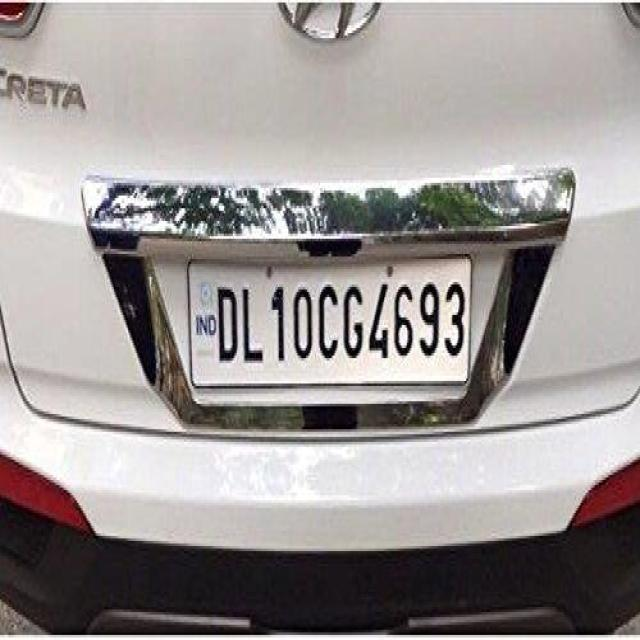0: (291, 285, 313, 364)
1: (269, 283, 288, 369)
3: (445, 282, 464, 361)
4: (368, 283, 389, 366)
6: (393, 284, 414, 360)
9: (417, 283, 440, 360)
c: (317, 279, 340, 362)
d: (216, 287, 240, 364)
g: (342, 281, 364, 364)
l: (241, 283, 265, 366)
